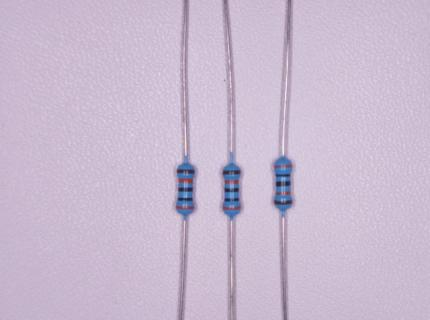Black band: (224, 187, 239, 193), (276, 181, 291, 187), (178, 187, 194, 192), (177, 197, 193, 202), (224, 198, 239, 202), (275, 174, 291, 177)
Brown band: (274, 200, 293, 205), (177, 169, 195, 174), (223, 170, 241, 175)
Orange band: (178, 178, 194, 184), (222, 206, 241, 211), (176, 206, 195, 210), (274, 164, 292, 168), (224, 180, 239, 184), (276, 191, 291, 195)
